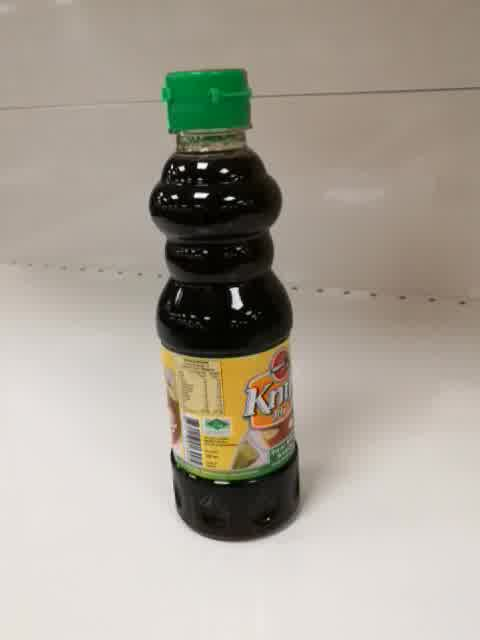cookingoil: (144, 67, 301, 543)
